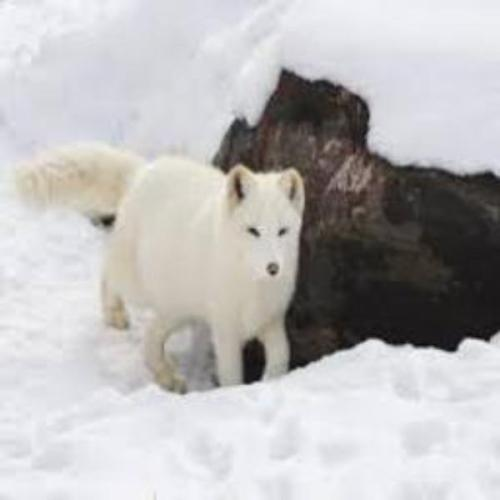arctic_fox-endangered: (29, 148, 307, 378)
